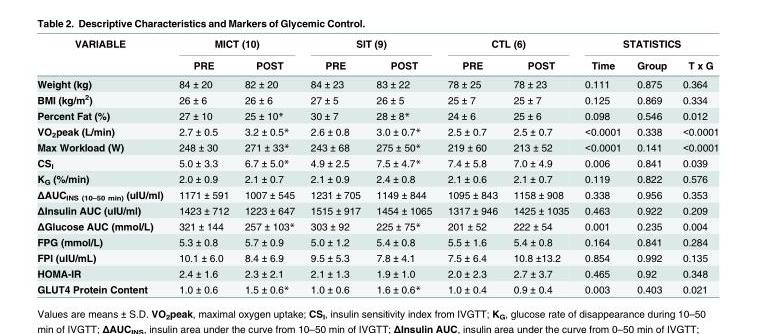table: (36, 37, 718, 295)
table column: (36, 37, 170, 295), (367, 37, 439, 295), (504, 37, 576, 295), (170, 37, 236, 295), (301, 37, 367, 295), (236, 37, 301, 295), (439, 37, 504, 295), (576, 37, 628, 295), (628, 37, 674, 295), (674, 37, 718, 295)
table column header: (36, 37, 718, 74)
table row: (36, 53, 718, 74), (36, 90, 718, 107), (36, 37, 718, 53), (36, 74, 718, 90), (36, 107, 718, 123), (36, 123, 718, 139), (36, 154, 718, 170), (36, 170, 718, 186), (36, 186, 718, 202), (36, 217, 718, 233), (36, 233, 718, 249), (36, 249, 718, 265), (36, 139, 718, 154), (36, 202, 718, 217), (36, 265, 718, 280), (36, 280, 718, 295)
table spanning cell: (36, 37, 170, 74), (576, 37, 718, 53), (301, 37, 439, 53), (439, 37, 576, 53), (170, 37, 301, 53)
